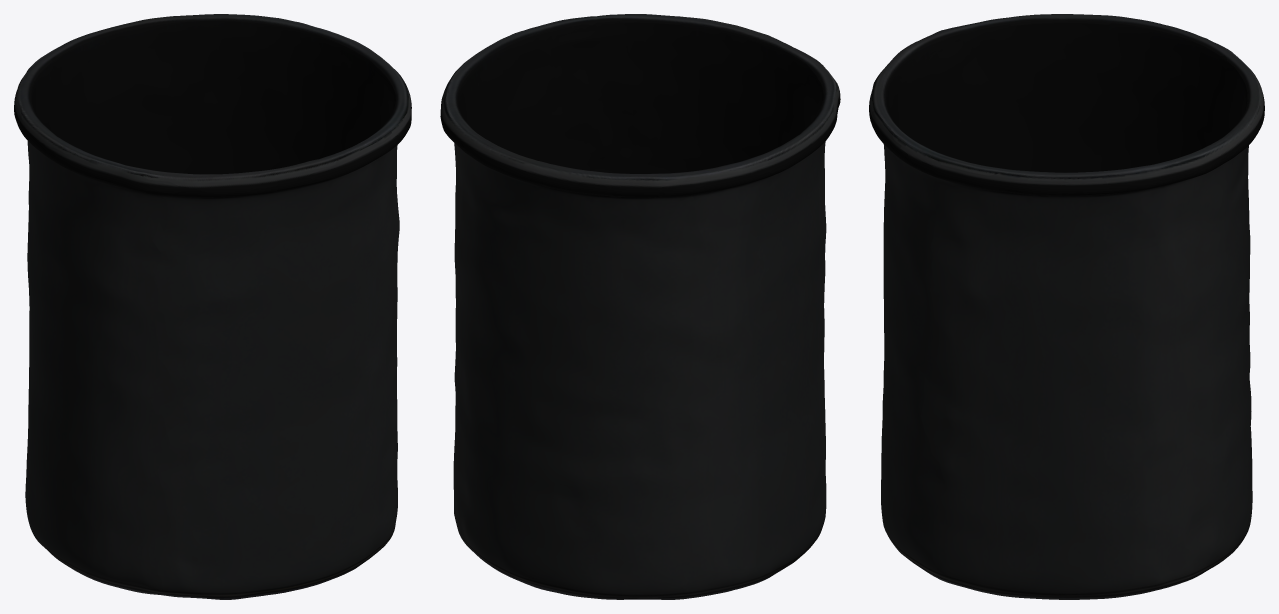
3 views of the same model, side by side, from view 1: azimuth 30°, elevation 25°; view 2: azimuth 150°, elevation 25°; view 3: azimuth 270°, elevation 25° (orthographic).
Visible parts, largest first — view 1: tmpfv87udpx.ply; view 2: tmpfv87udpx.ply; view 3: tmpfv87udpx.ply.
Boxes of the visible parts, x1=… form: tmpfv87udpx.ply: x1=14, y1=14, x2=411, y2=599; tmpfv87udpx.ply: x1=440, y1=14, x2=840, y2=599; tmpfv87udpx.ply: x1=869, y1=14, x2=1264, y2=599.
Bounding box in the file's own units: 1.61 × 1.96 × 1.62.
Materials: 1 (1 with a texture image).
